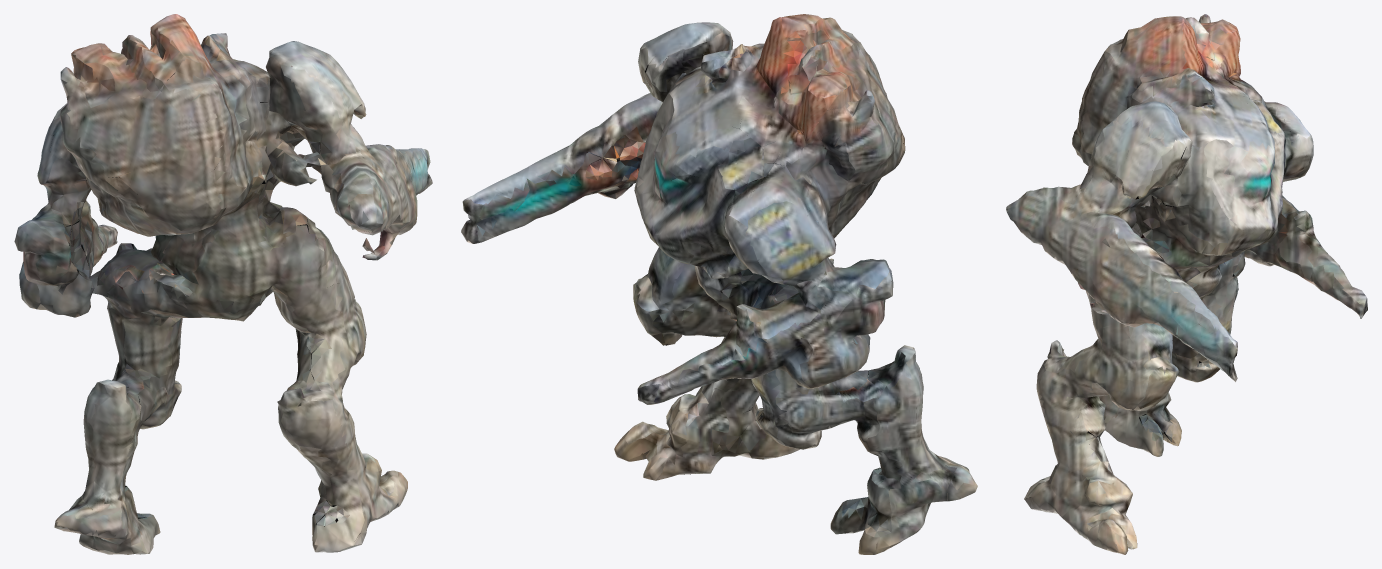
Rendered from vanguard_assault_mech_1792530321448.glb.
3 renders of one model, left to right at view 1: azimuth 30°, elevation 25°; view 2: azimuth 150°, elevation 25°; view 3: azimuth 270°, elevation 25°, orthographic. The views are drawn at different scales.
Visible parts, largest first — view 1: geometry_0; view 2: geometry_0; view 3: geometry_0.
Part boxes in pixels (left/top/right/bottom): geometry_0: left=14, top=14, right=432, bottom=554; geometry_0: left=461, top=14, right=977, bottom=554; geometry_0: left=1006, top=14, right=1367, bottom=554.
Size of the model in its own units: 0.8114 by 0.8974 by 0.6441.
Materials: 1 (1 with a texture image).
